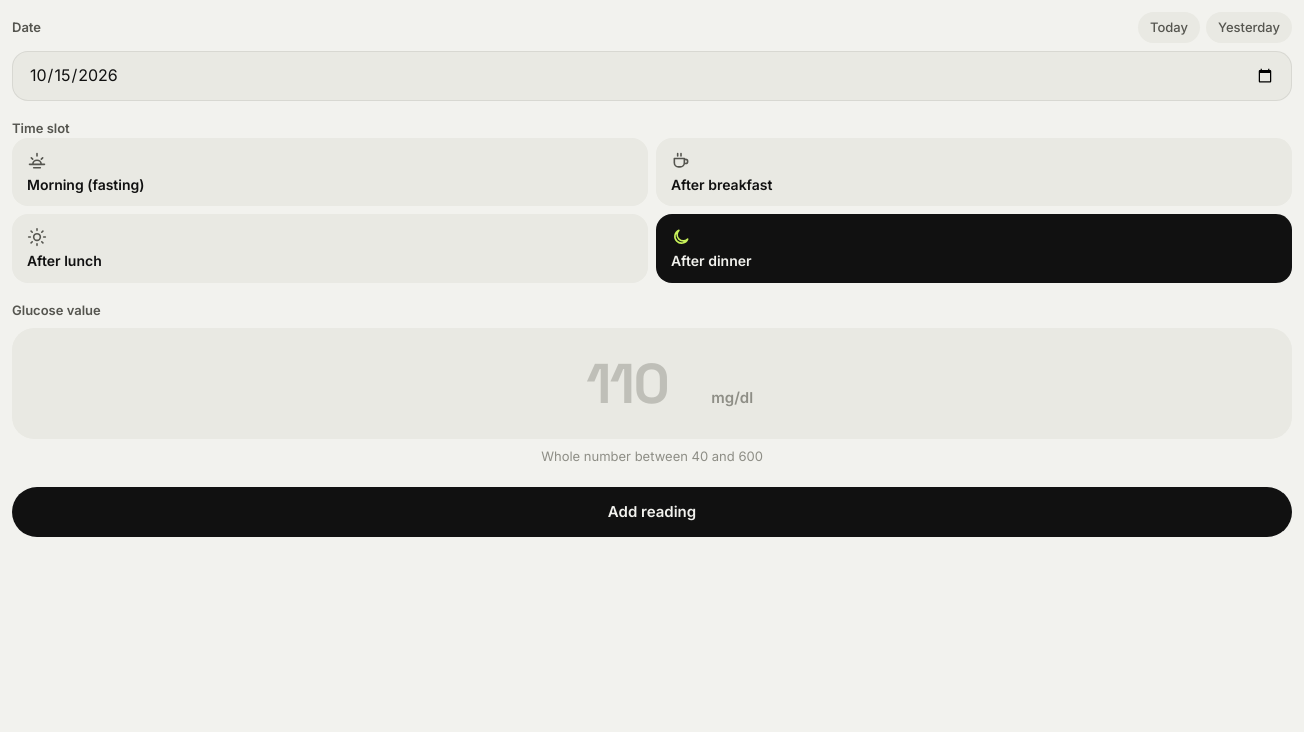
Test case: shows the error message the API returns
Type "120" into the number field labelled "Glucose value" at (627, 384), box top-left (551, 348), bottom-right (703, 419)
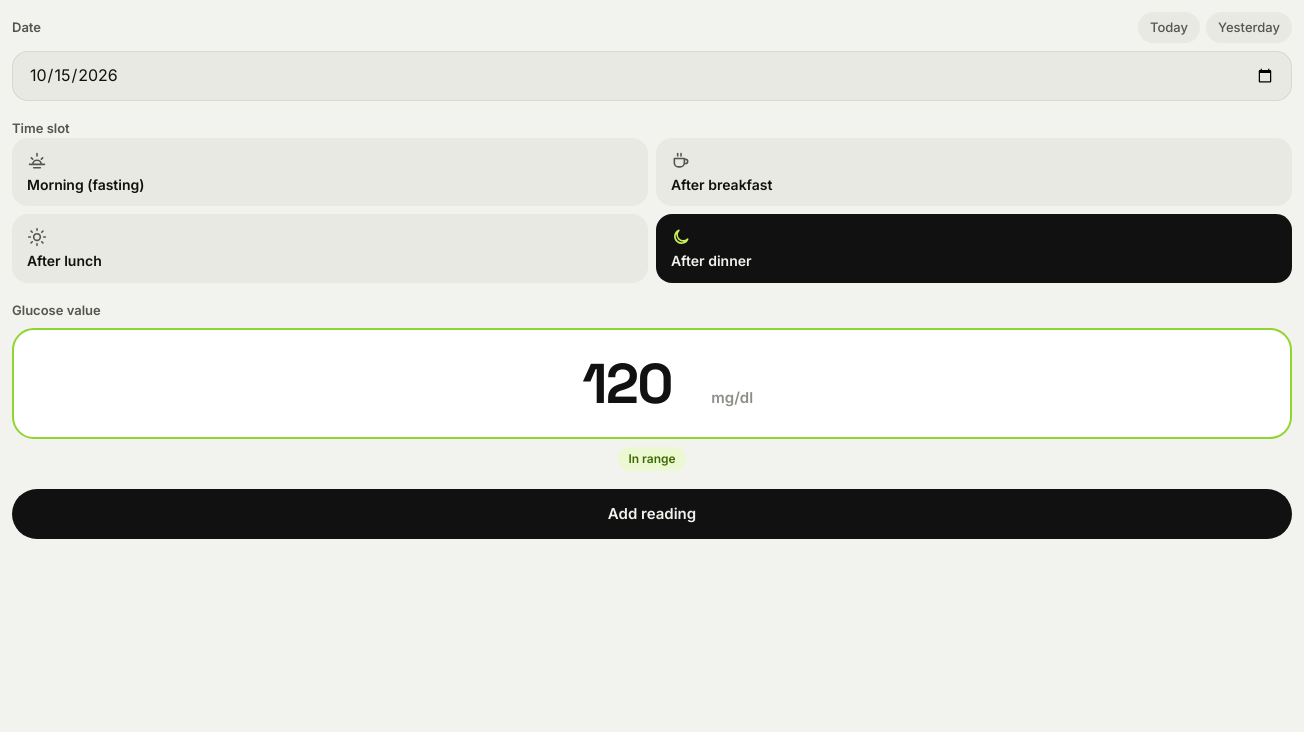
Click the button "Add reading" at (652, 514), box top-left (12, 488), bottom-right (1292, 538)
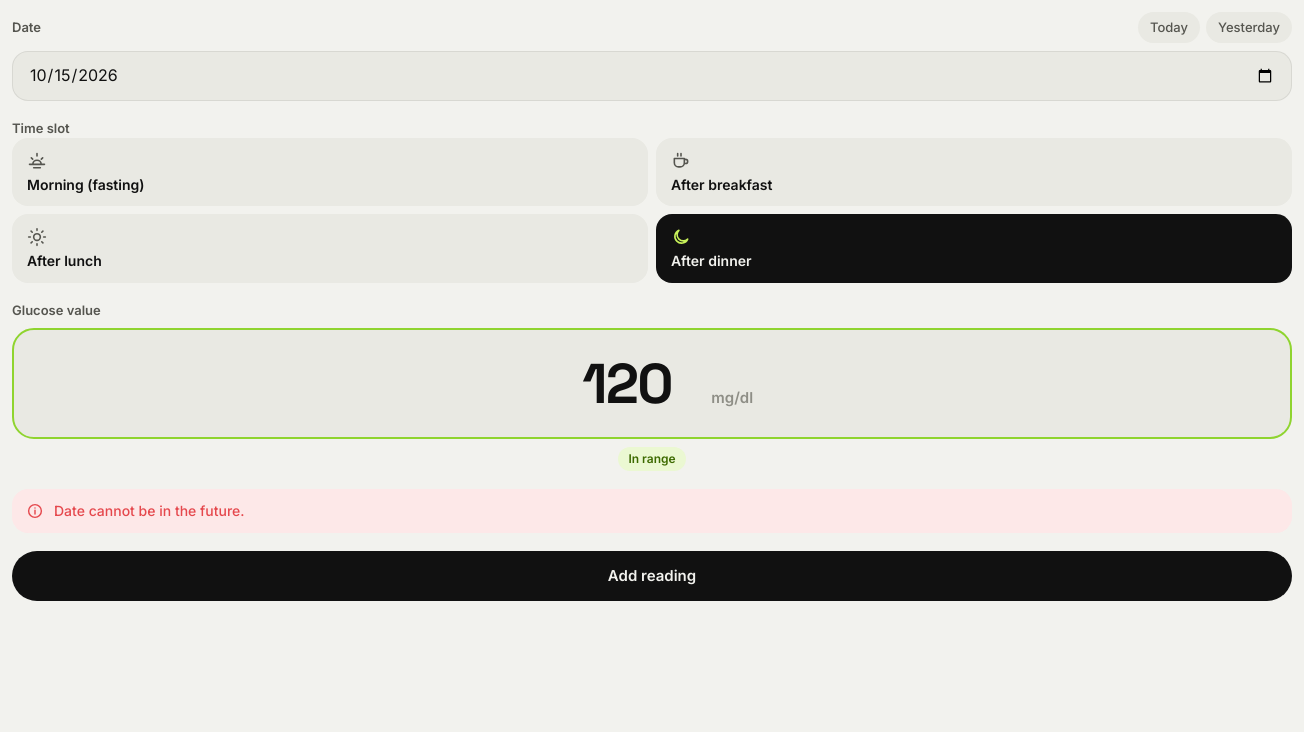
Now the message reads "Date cannot be in the future.", box top-left (54, 502), bottom-right (245, 518)
